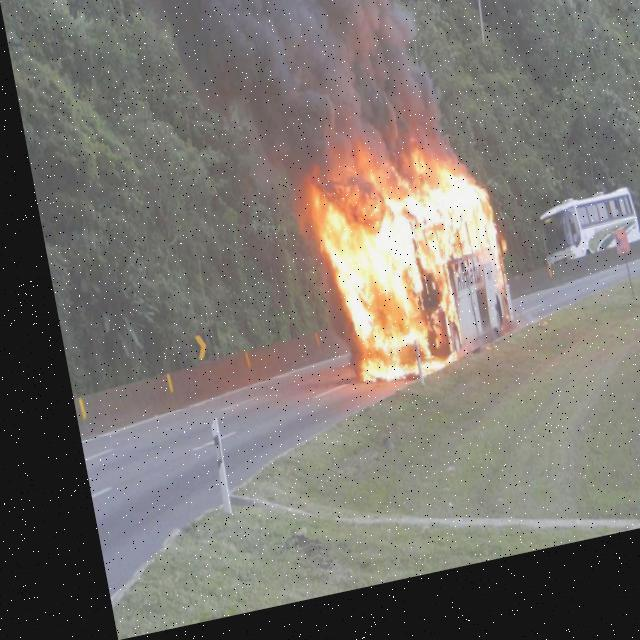Fire: (286, 143, 514, 414)
